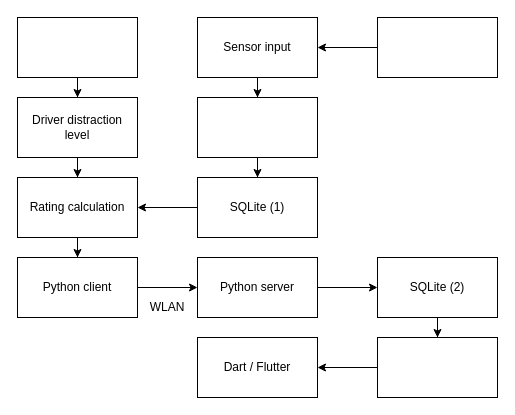
Image size: 515x415. Some labels were removed from this diagram. Here are the shapes that lost their labels. From the top down, the centre of each, then its label:
(77,47): openCV
(437,47): Arduino
(257,127): Java
(437,367): Nodejs
